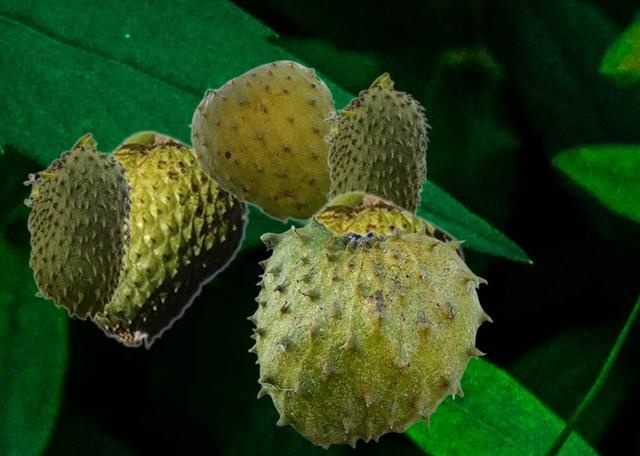guyabano: (246, 213, 492, 448), (89, 129, 249, 350), (187, 59, 337, 225), (23, 131, 136, 320), (323, 71, 431, 212), (300, 189, 469, 264)
